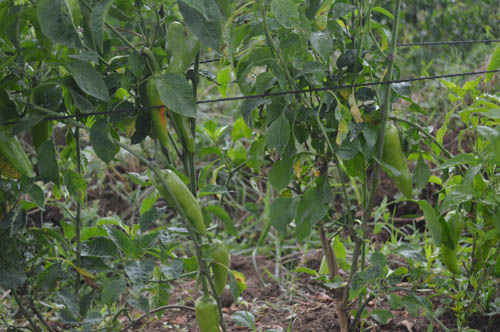ChiliPepper: (155, 170, 204, 229), (157, 173, 206, 231), (383, 127, 410, 195), (146, 78, 168, 144), (168, 41, 202, 79), (167, 108, 194, 152), (209, 239, 231, 291), (443, 213, 462, 271), (193, 295, 220, 329), (164, 23, 184, 51)
